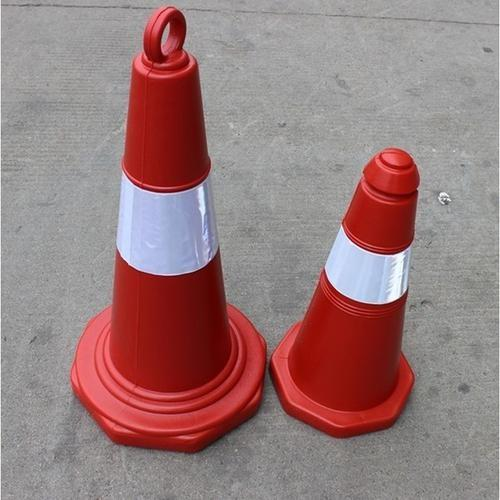cone_barrel: (84, 10, 255, 412), (280, 137, 433, 421)
